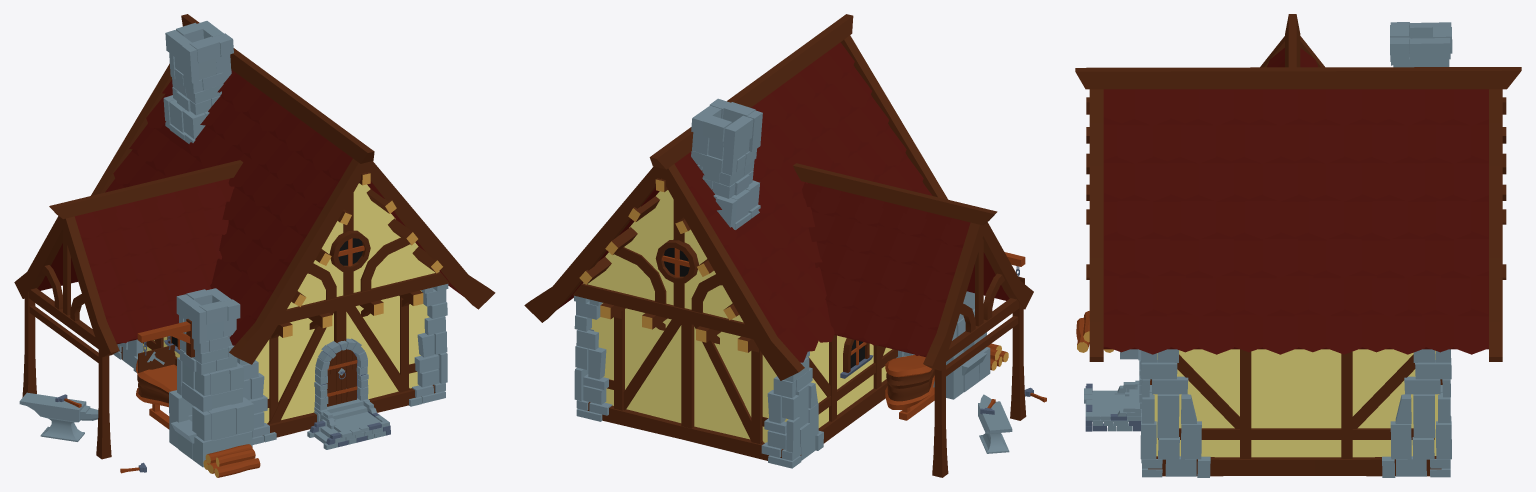
File: Village_Blacksmith.glb
3 renders of one model, left to right at view 1: azimuth 30°, elevation 25°; view 2: azimuth 150°, elevation 25°; view 3: azimuth 270°, elevation 25°, orthographic. The views are drawn at different scales.
Parts seen in each view (by area): view 1: Blacksmith; view 2: Blacksmith; view 3: Blacksmith.
Part boxes in pixels (x1,y1,x2,y2): Blacksmith: [14, 14, 495, 477]; Blacksmith: [524, 14, 1046, 477]; Blacksmith: [1075, 14, 1521, 477].
Size of the model in its own units: 389 by 300 by 328.
